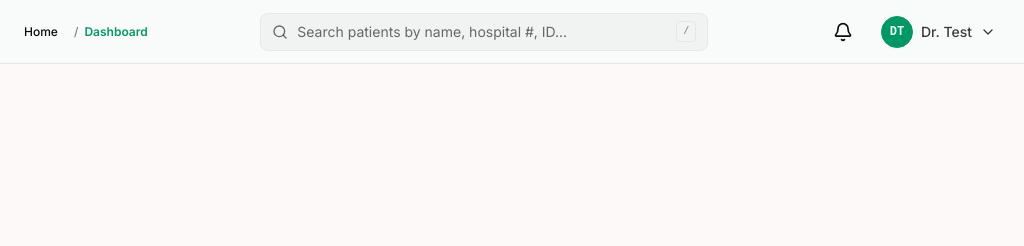
Test: Topbar notifications panel › shows an empty state when there are no notifications
Click the button named "Notifications": coordinates (843, 32) [821,10,865,54]
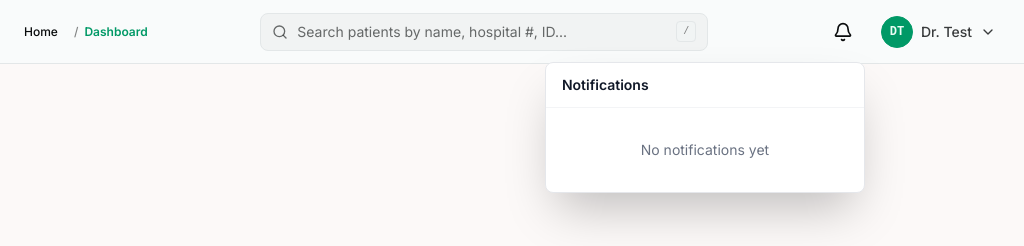
Check: the text "No notifications yet" is shown, box [641,140,769,158]
